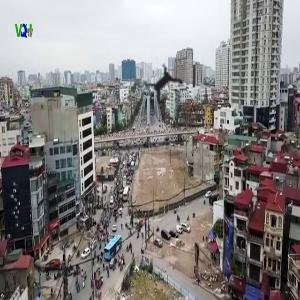drone: (124, 44, 209, 129)
